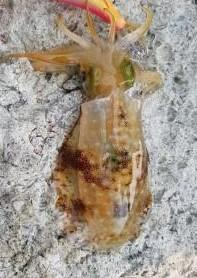Cephalopod: (20, 8, 161, 245)
